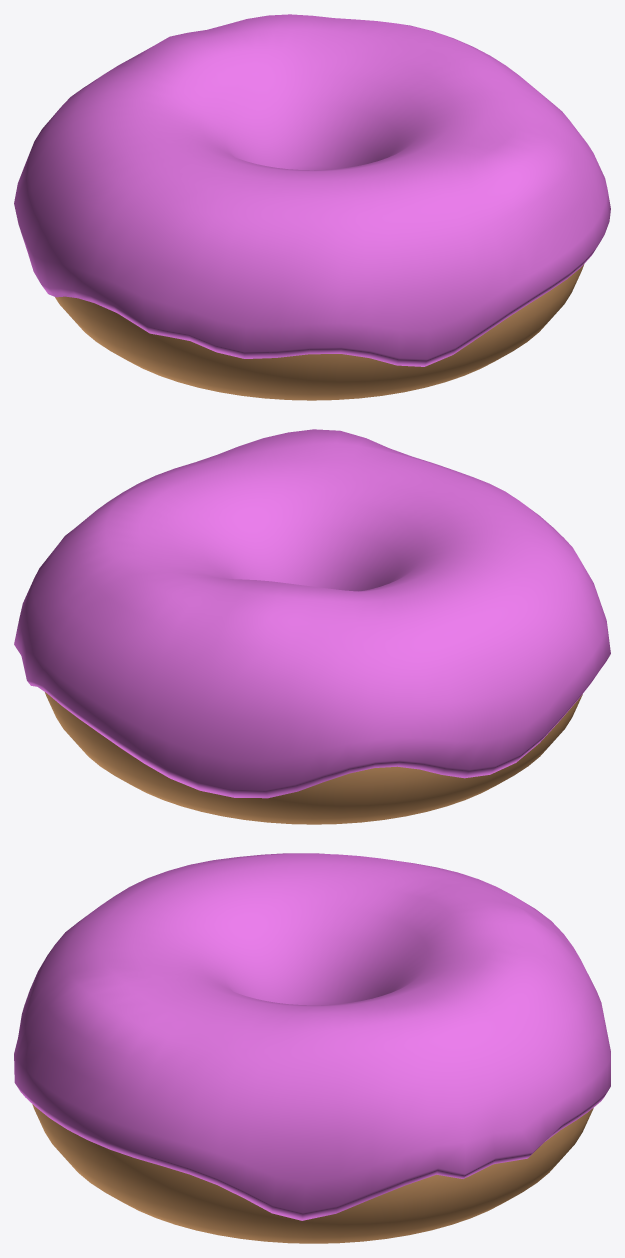
The model's file is donut.glb.
3 views of the same model, one above another, from view 1: azimuth 30°, elevation 25°; view 2: azimuth 150°, elevation 25°; view 3: azimuth 270°, elevation 25° (orthographic). The views are drawn at different scales.
Visible parts, largest first — view 1: actaul icing, donut; view 2: actaul icing, donut; view 3: actaul icing, donut.
Part boxes in pixels (x1=…): actaul icing: x1=14, y1=14, x2=610, y2=366; donut: x1=55, y1=264, x2=584, y2=400; actaul icing: x1=14, y1=429, x2=610, y2=798; donut: x1=45, y1=692, x2=582, y2=824; actaul icing: x1=14, y1=853, x2=610, y2=1220; donut: x1=32, y1=1104, x2=593, y2=1243.
Size of the model in its own units: 1.32 by 0.5499 by 1.31.
